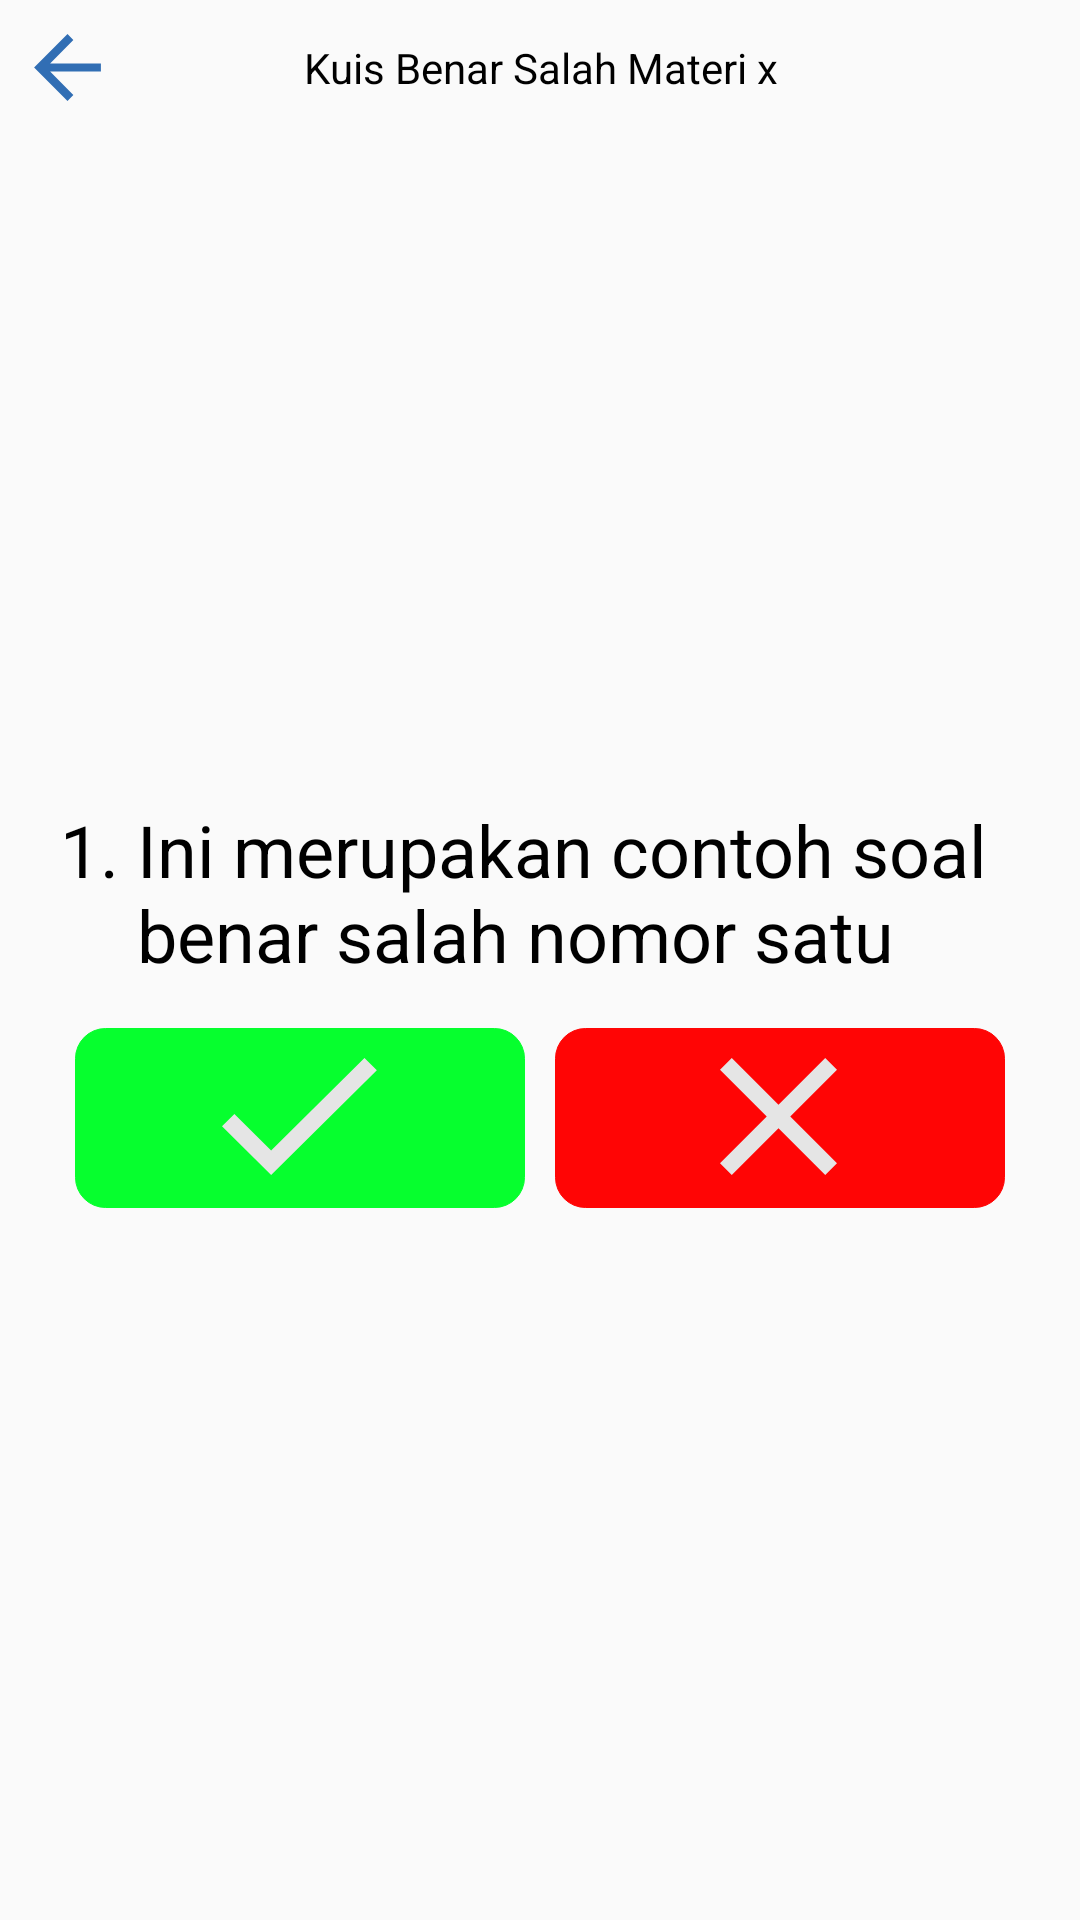

Screen size 1080x1920. Icon name, then its box in pixels as (x1, y1, x2, y2):
arrow back: (34, 34, 101, 101)
